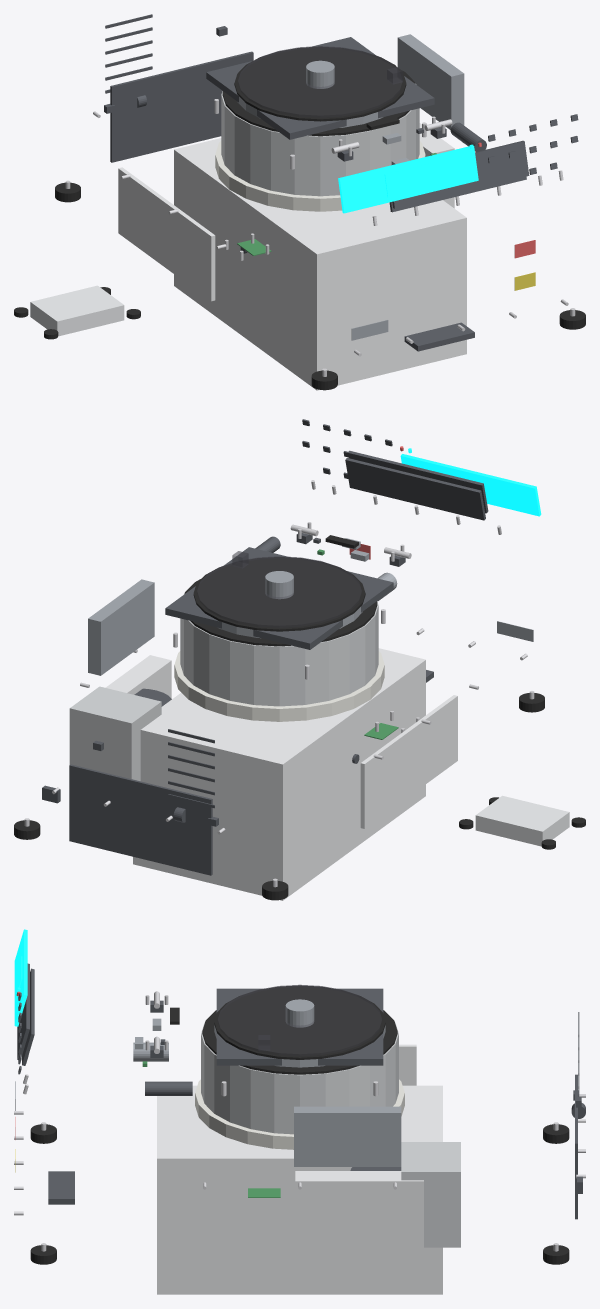
Rendered from centrifuge_exact.glb.
The picture shows the model from 3 angles, top to bottom: view 1: azimuth 30°, elevation 25°; view 2: azimuth 150°, elevation 25°; view 3: azimuth 270°, elevation 25°; orthographic projection.
Visible parts, largest first — view 1: A01_MainUpperHousing, C01_ChamberBowl, B03_ViewportGasket, A04_RearPanel, B02_Viewport, A05_SideMolding_L, E02_LCD_Bezel, F10_Condenser, B01_LidFrame, R01_TubeRackBody, E01_Faceplate, C09_InsulationFoam (+8 smaller); view 2: A01_MainUpperHousing, C01_ChamberBowl, A04_RearPanel, B03_ViewportGasket, B02_Viewport, A05_SideMolding_L, F09_Compressor, F10_Condenser, A03_FrontControlBezel, C09_InsulationFoam, B01_LidFrame, R01_TubeRackBody (+5 smaller); view 3: A01_MainUpperHousing, A06_SideMolding_R, C01_ChamberBowl, B03_ViewportGasket, B02_Viewport, F10_Condenser, F09_Compressor, B01_LidFrame, C09_InsulationFoam, C02_RimGasket, E18_CondensationWaterTray, E02_LCD_Bezel (+5 smaller).
Part boxes in pixels (x1,y1,x2,y2): A01_MainUpperHousing: (174,138,466,390); C01_ChamberBowl: (221,83,419,196); B03_ViewportGasket: (234,47,406,121); A04_RearPanel: (110,51,253,162); B02_Viewport: (238,46,402,117); A05_SideMolding_L: (118,167,215,301); E02_LCD_Bezel: (338,146,478,213); F10_Condenser: (397,34,464,129); B01_LidFrame: (206,37,434,139); R01_TubeRackBody: (30,285,124,336); E01_Faceplate: (392,140,529,208); C09_InsulationFoam: (215,141,425,211); A01_MainUpperHousing: (133,648,425,900); C01_ChamberBowl: (180,594,378,706); A04_RearPanel: (69,764,212,875); B03_ViewportGasket: (193,557,365,631); B02_Viewport: (197,556,361,627); A05_SideMolding_L: (360,695,457,828); F09_Compressor: (69,686,161,781); F10_Condenser: (88,579,154,675); A03_FrontControlBezel: (345,458,485,520); C09_InsulationFoam: (174,651,384,721); B01_LidFrame: (165,547,393,649); R01_TubeRackBody: (475,795,569,846); A01_MainUpperHousing: (157,1085,442,1294); A06_SideMolding_R: (295,1171,423,1251); C01_ChamberBowl: (201,1022,398,1134); B03_ViewportGasket: (214,985,385,1059); B02_Viewport: (217,984,382,1055); F10_Condenser: (294,1106,401,1166); F09_Compressor: (401,1142,460,1247); B01_LidFrame: (216,988,383,1065); C09_InsulationFoam: (195,1079,404,1149); C02_RimGasket: (202,1010,397,1074); E18_CondensationWaterTray: (48,1171,74,1204); E02_LCD_Bezel: (14,929,27,1026).
Bounding box in the file's own units: 427 × 259 × 480.
